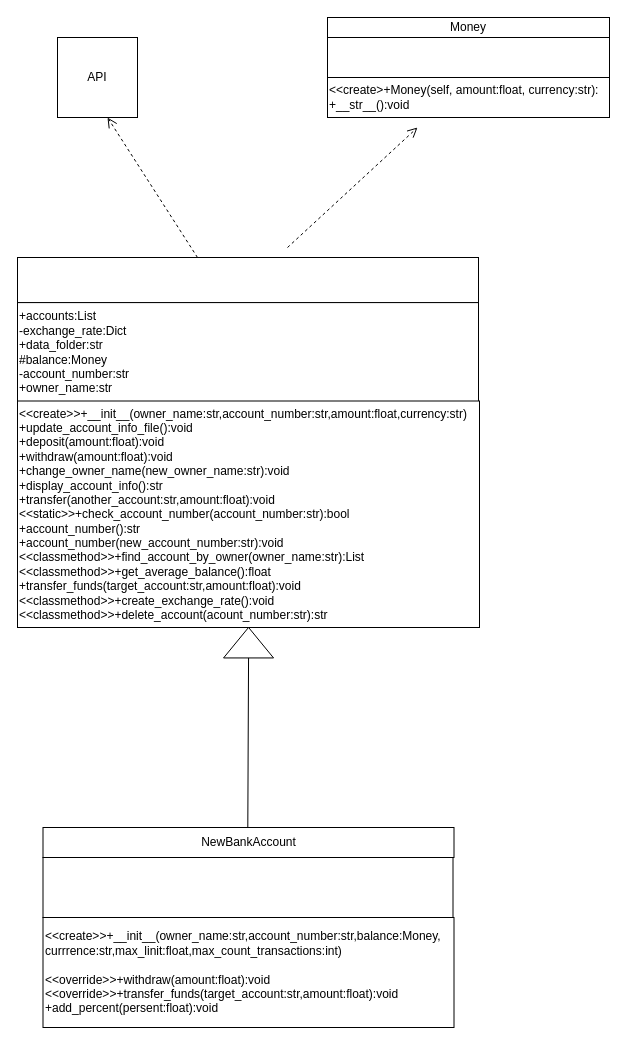
The diagram is 627 pixels wide and 1045 high, and some of its shapes have lost their labels. The centre of each missing label's shape, as x and y in pixels:
"+amount:int +currency:str" goes at point (468, 57).
"+max_limit:float +max_count_transactions:int +max_count:float" goes at point (247, 887).
"BankAccount" goes at point (247, 279).
